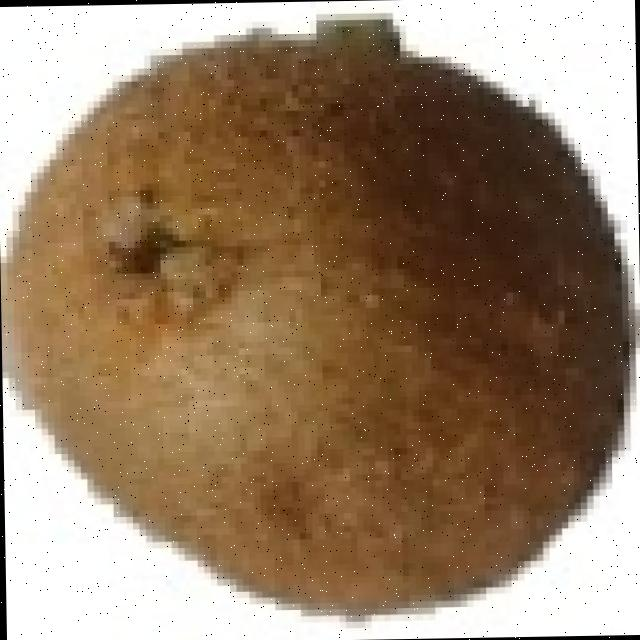kiwi: (5, 31, 616, 621), (513, 9, 596, 53)
